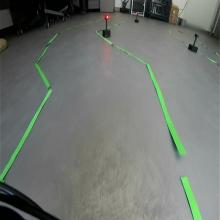red: (104, 14, 109, 20)
